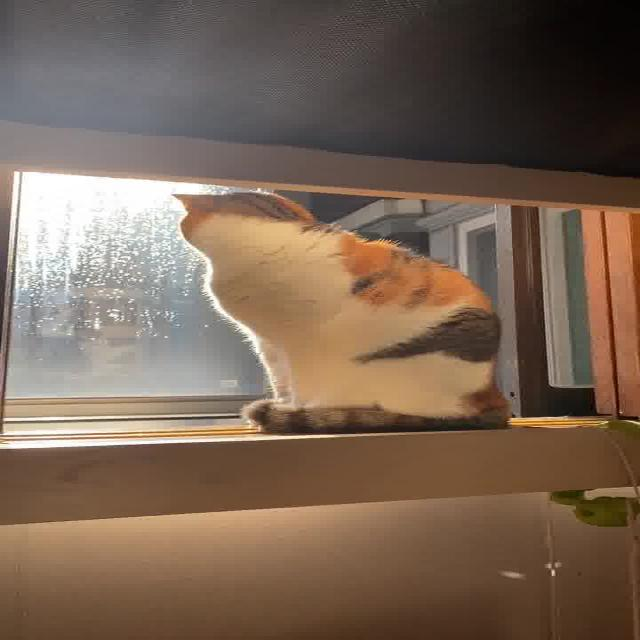cat: (142, 182, 564, 442)
